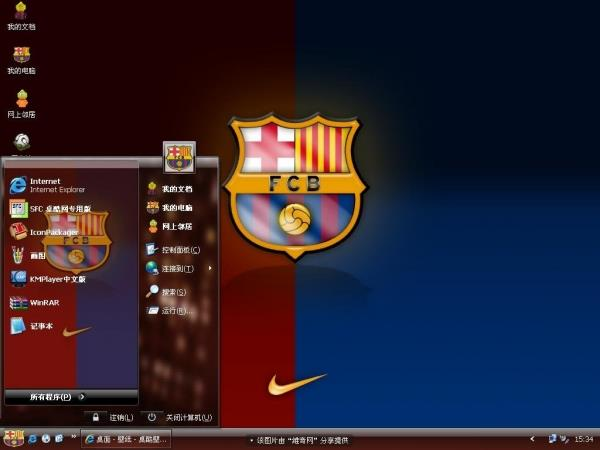BarcelonaFC: (229, 111, 368, 257)
